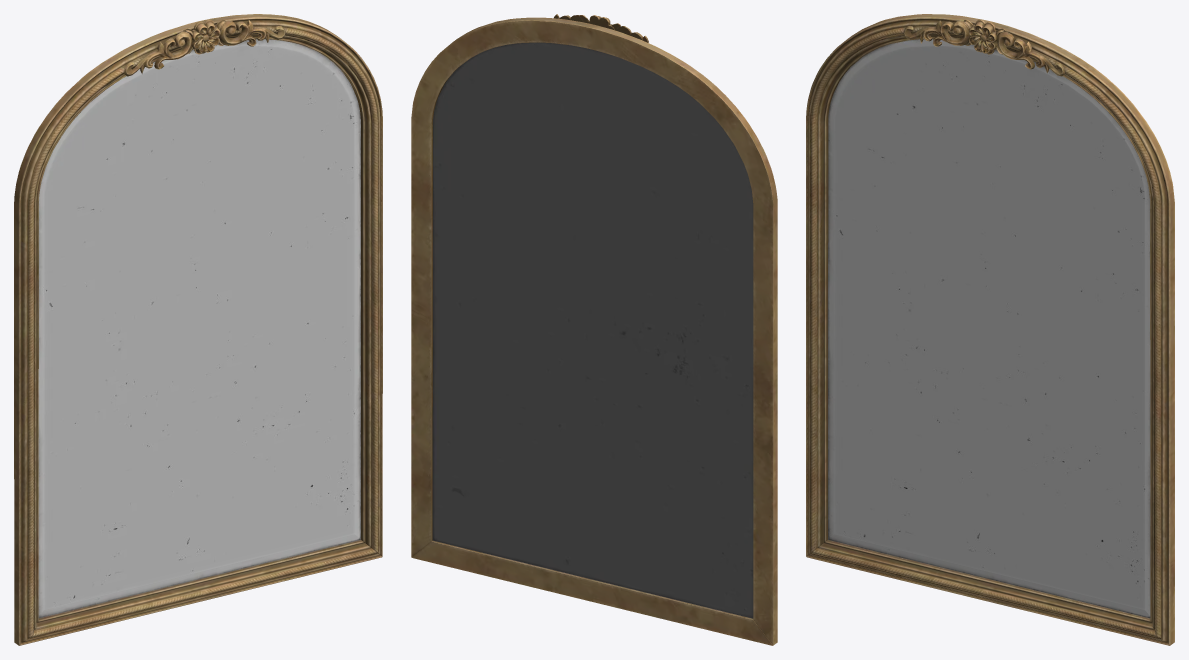
The model's file is ornate_mirror_01.glb.
3 views of the same model, side by side, from view 1: azimuth 30°, elevation 25°; view 2: azimuth 150°, elevation 25°; view 3: azimuth 330°, elevation 25° (orthographic).
Parts seen in each view (by area): view 1: ornate_mirror_01; view 2: ornate_mirror_01; view 3: ornate_mirror_01.
Boxes of the visible parts, x1=… form: ornate_mirror_01: x1=14, y1=14, x2=382, y2=645; ornate_mirror_01: x1=411, y1=14, x2=777, y2=645; ornate_mirror_01: x1=806, y1=14, x2=1174, y2=645.
Bounding box in the file's own units: 0.4865 × 0.7442 × 0.026.
Materials: 1 (1 with a texture image).
